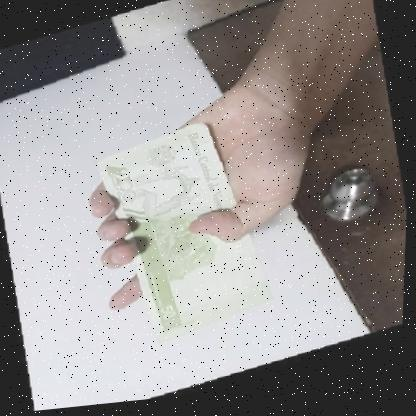fifty-back-vef: (86, 111, 285, 358)
